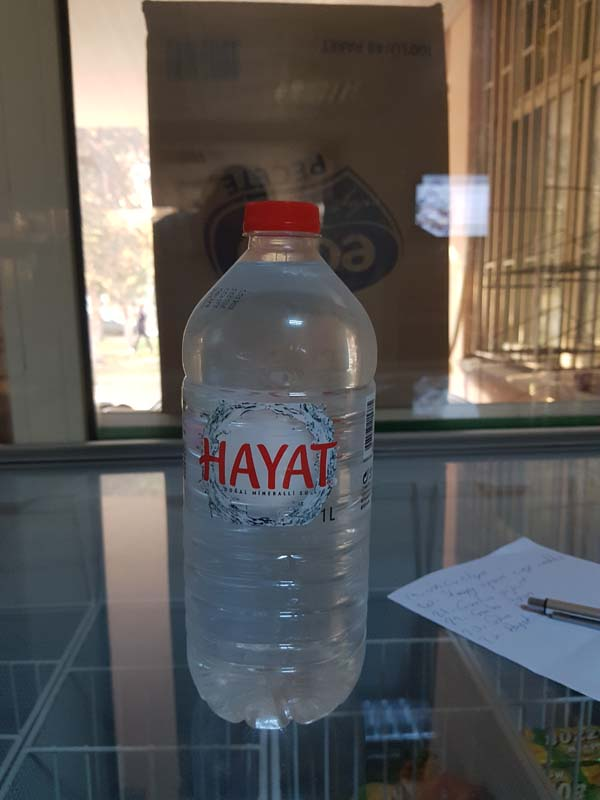saka500mlsu: (178, 194, 380, 728)
